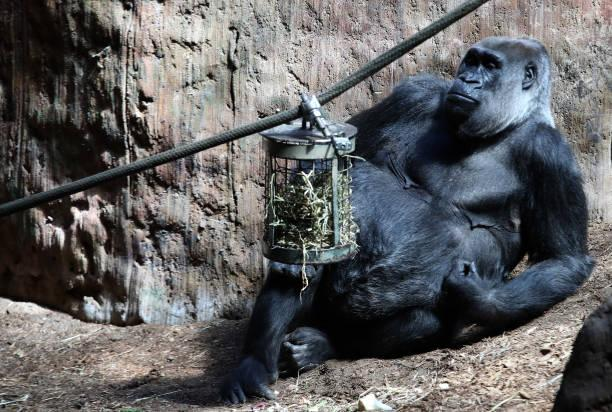gorille_Autres: (380, 35, 593, 344)
